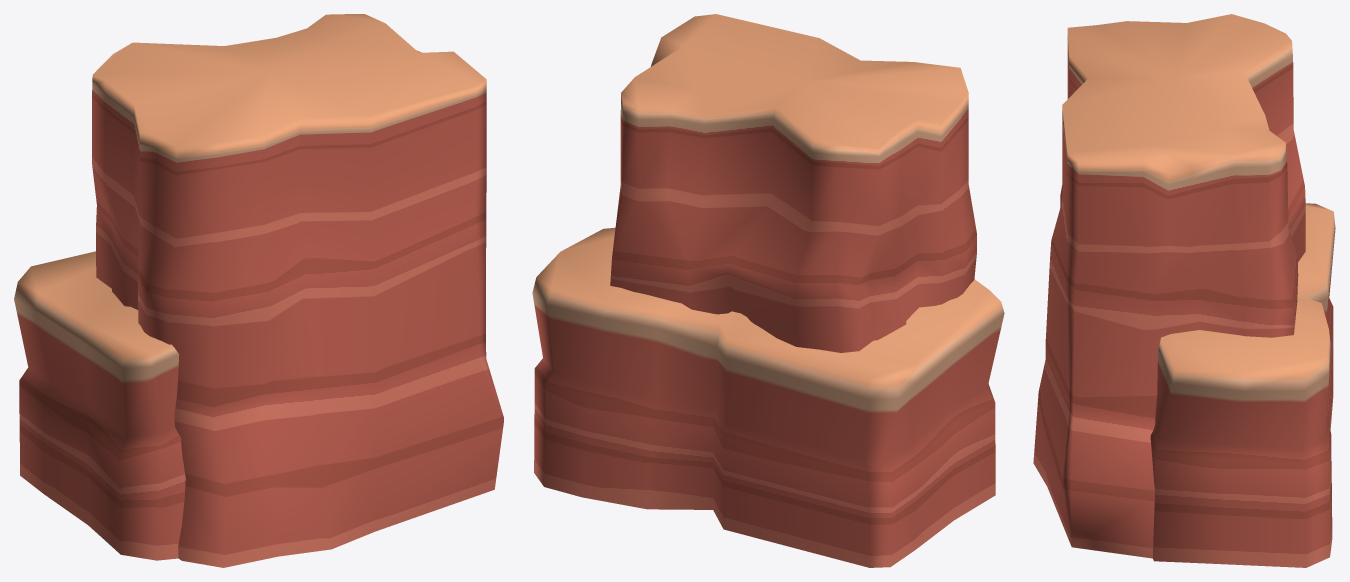
File: BO_Rock_3x3x2.fbx
3 views of the same model, side by side, from view 1: azimuth 30°, elevation 25°; view 2: azimuth 150°, elevation 25°; view 3: azimuth 270°, elevation 25° (orthographic). The views are drawn at different scales.
Visible parts, largest first — view 1: Rock_3x3x2; view 2: Rock_3x3x2; view 3: Rock_3x3x2.
Part boxes in pixels (x1,y1,x2,y2): Rock_3x3x2: [14, 14, 503, 567]; Rock_3x3x2: [532, 14, 1004, 567]; Rock_3x3x2: [1033, 14, 1335, 567].
Size of the model in its own units: 312 by 311 by 216.
1 material, 1 textured.
